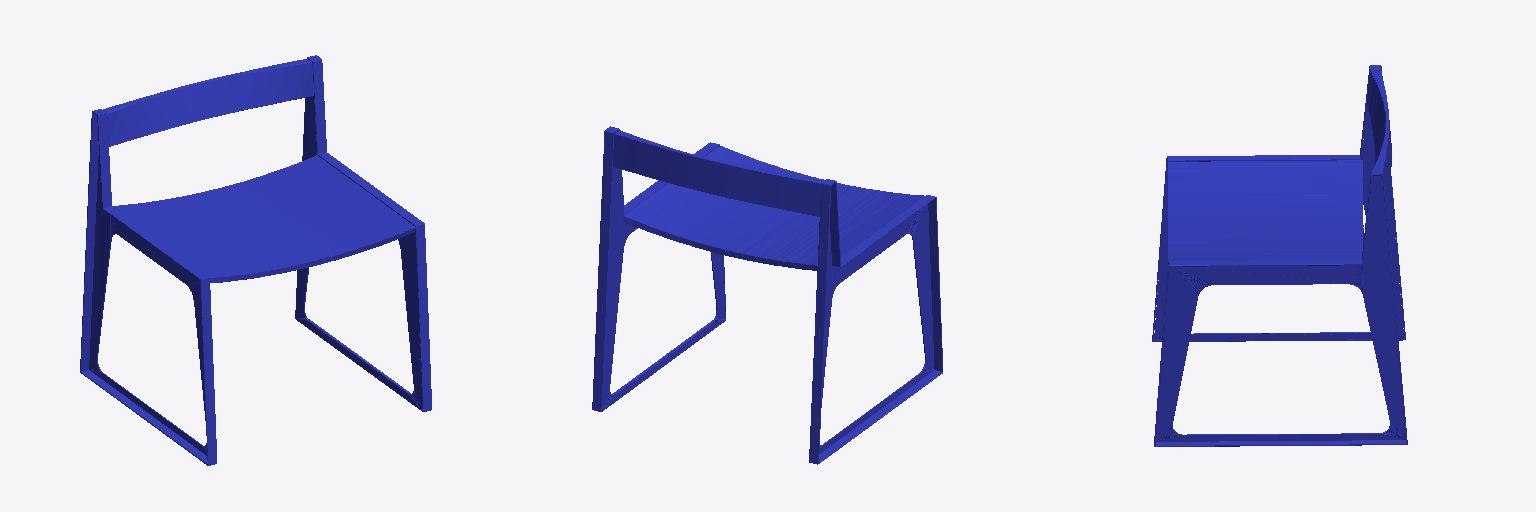
Rendered from chair13.obj.
The picture shows the model from 3 angles: view 1: azimuth 30°, elevation 25°; view 2: azimuth 150°, elevation 25°; view 3: azimuth 270°, elevation 25°; orthographic projection.
Parts seen in each view (by area): view 1: Object.4, Object.2, Object.5, Object.3; view 2: Object.4, Object.2, Object.5, Object.3; view 3: Object.4, Object.2, Object.5.
Part boxes in pixels (x1,y1,x2,y2): Object.4: (80,55,431,465); Object.2: (113,155,415,282); Object.5: (103,59,313,146); Object.3: (210,228,415,282); Object.4: (592,126,942,464); Object.2: (624,146,923,270); Object.5: (613,130,824,216); Object.3: (623,216,817,270); Object.4: (1152,65,1407,446); Object.2: (1168,160,1362,261); Object.5: (1367,71,1391,197).
Bounding box in the file's own units: 78.2 × 89.64 × 76.14.